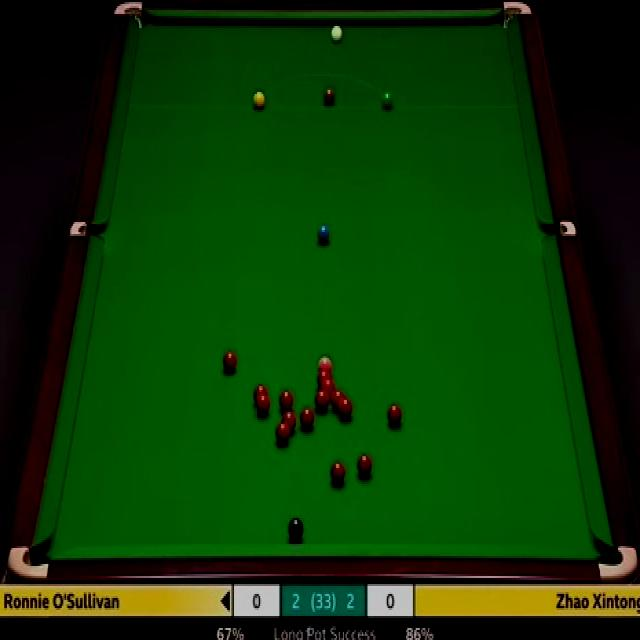black-ball: (288, 514, 304, 542)
blue-ball: (316, 222, 330, 246)
brown-ball: (322, 88, 334, 106)
green-ball: (382, 90, 393, 110)
pink-ball: (316, 354, 332, 368)
red-ball: (276, 422, 292, 447), (300, 407, 316, 429), (356, 454, 372, 476), (330, 461, 346, 483), (256, 396, 271, 419), (339, 396, 353, 420), (388, 404, 403, 426), (222, 349, 236, 372), (253, 383, 269, 403), (279, 392, 294, 412), (284, 411, 298, 430), (313, 391, 329, 407), (332, 392, 347, 408), (318, 378, 336, 391), (316, 370, 332, 380)
white-ball: (329, 23, 344, 44)
yellow-ball: (252, 89, 267, 110)
